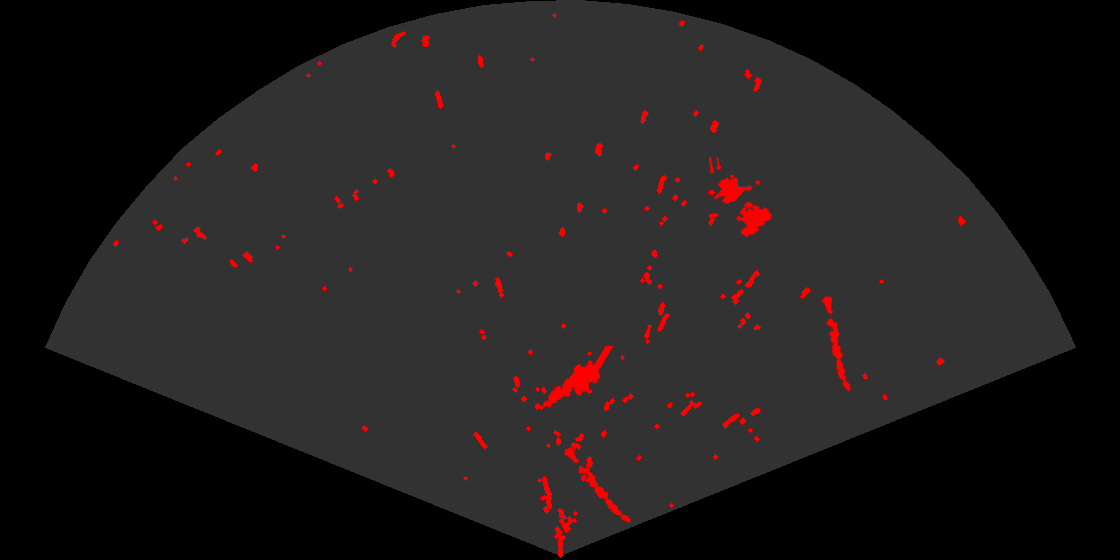cage: (709, 157, 774, 239)
chain: (563, 446, 632, 524), (820, 293, 852, 393)
frogman: (541, 346, 613, 409)
